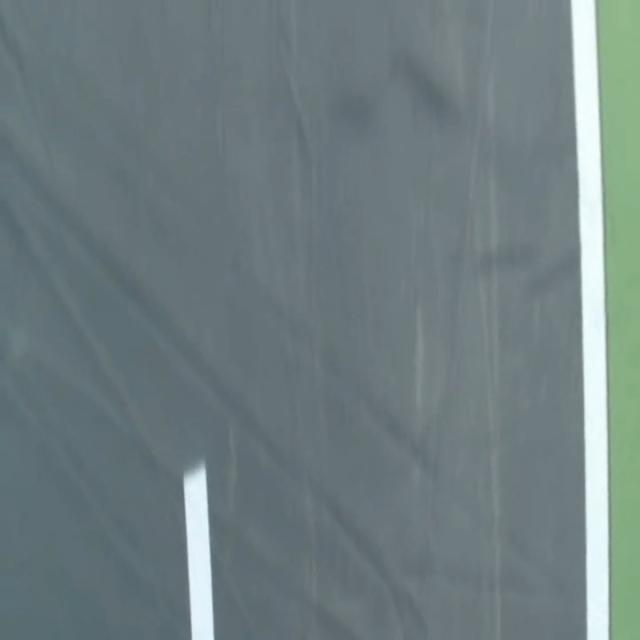center: (184, 461, 214, 639)
right: (571, 0, 609, 639)
